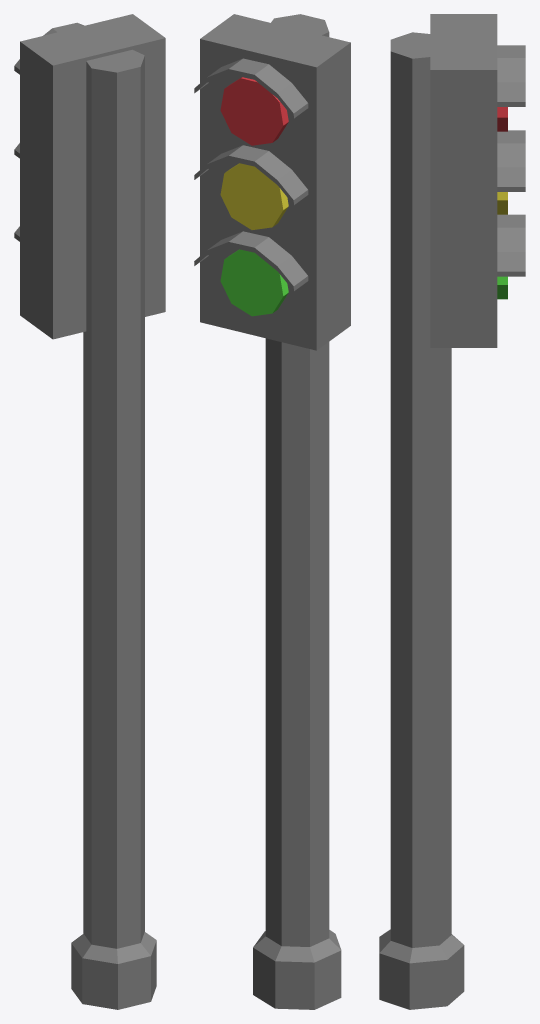
Rendered from traffic lights.fbx.
The picture shows the model from 3 angles, left to right: view 1: azimuth 30°, elevation 25°; view 2: azimuth 150°, elevation 25°; view 3: azimuth 270°, elevation 25°; orthographic projection. The views are drawn at different scales.
Parts seen in each view (by area): view 1: Cylinder, Cube; view 2: Cylinder, Cube, Cylinder.001, Cylinder.003, Cylinder.002, Plane, Plane.001, Plane.002; view 3: Cylinder, Cube, Plane.002, Plane, Plane.001.
Boxes of the visible parts, x1,y1,x2,y2 form: Cylinder: (71,49,156,1009); Cube: (20,14,165,339); Cylinder: (253,14,341,1009); Cube: (200,14,350,350); Cylinder.001: (220,77,288,145); Cylinder.003: (220,249,288,316); Cylinder.002: (220,163,288,229); Plane: (194,58,308,118); Plane.001: (194,145,308,204); Plane.002: (194,231,308,290); Cylinder: (379,32,464,1009); Cube: (430,14,497,347); Plane.002: (497,214,525,276); Plane: (497,45,525,106); Plane.001: (497,130,525,191).
Size of the model in its own units: 71.6 by 567 by 79.15.
